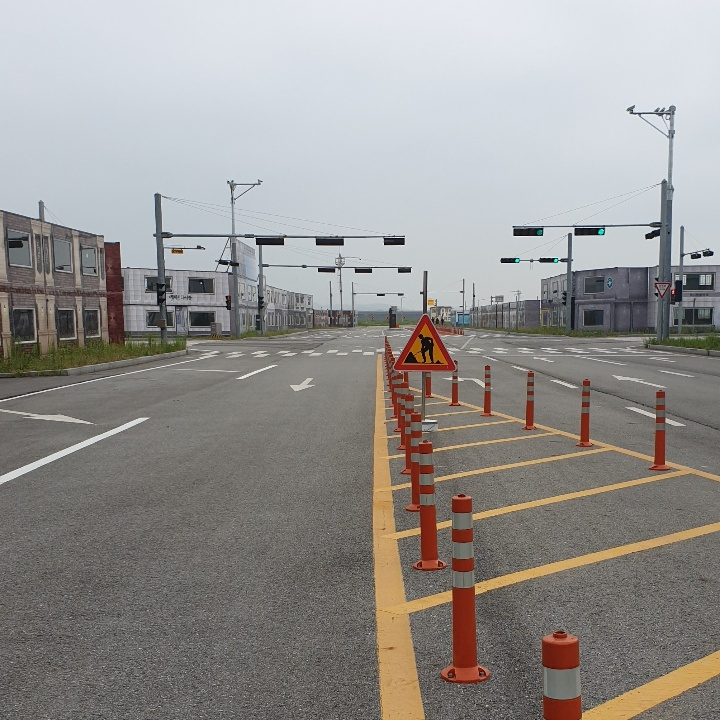const: (401, 324, 449, 365)
